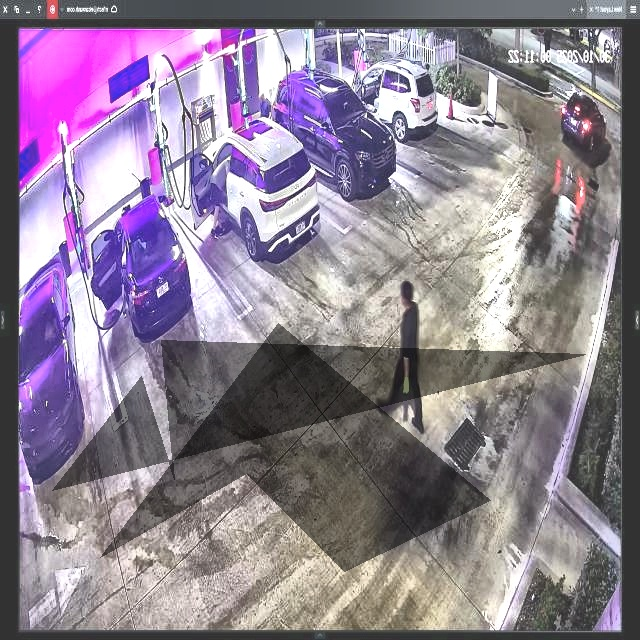Car: (189, 113, 318, 259), (271, 67, 393, 195), (94, 195, 189, 343)
